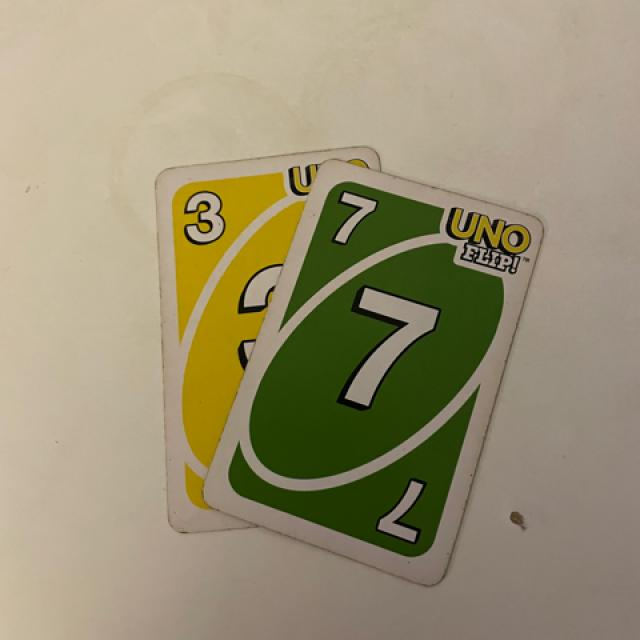lgreen-7: (324, 182, 391, 262)
lyellow-3: (167, 178, 250, 256)
